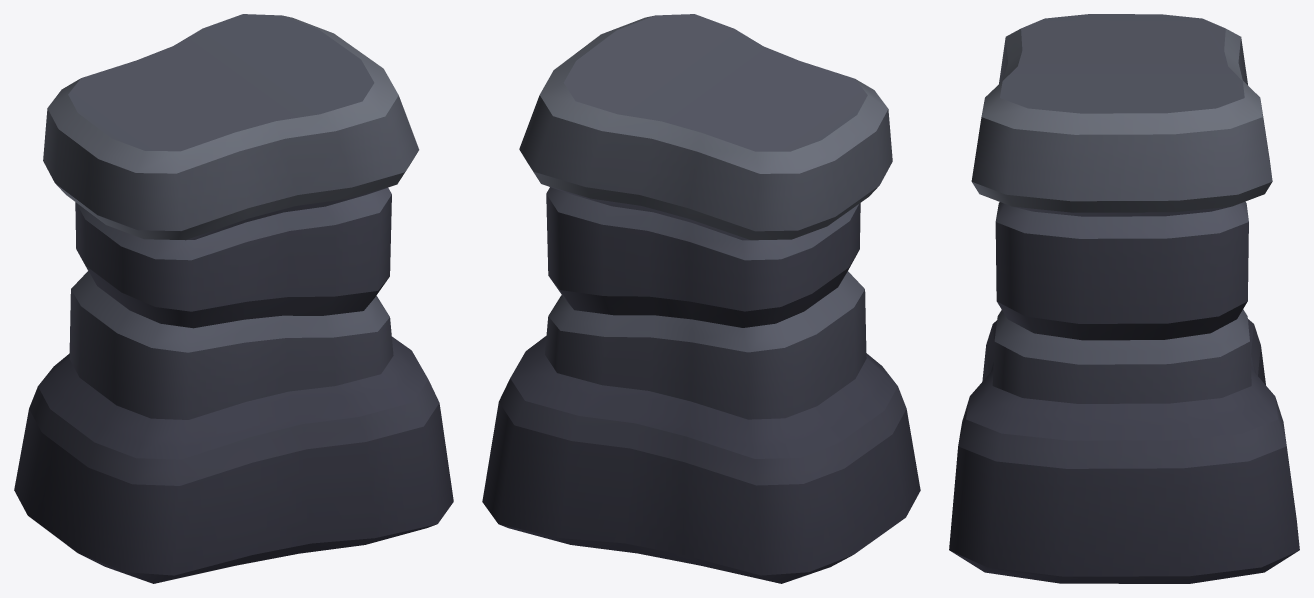
The model's file is rock_big_B_gray_5.glb.
3 renders of one model, left to right at view 1: azimuth 30°, elevation 25°; view 2: azimuth 150°, elevation 25°; view 3: azimuth 270°, elevation 25°, orthographic. The views are drawn at different scales.
Visible parts, largest first — view 1: rock_big_B_gray_5; view 2: rock_big_B_gray_5; view 3: rock_big_B_gray_5.
Boxes of the visible parts, box(x1,y1,x2,y2) form: rock_big_B_gray_5: box(14, 14, 453, 583); rock_big_B_gray_5: box(482, 14, 920, 583); rock_big_B_gray_5: box(949, 14, 1299, 583).
Bounding box in the file's own units: 6.49 × 7.76 × 5.47.
Materials: 1 (1 with a texture image).
